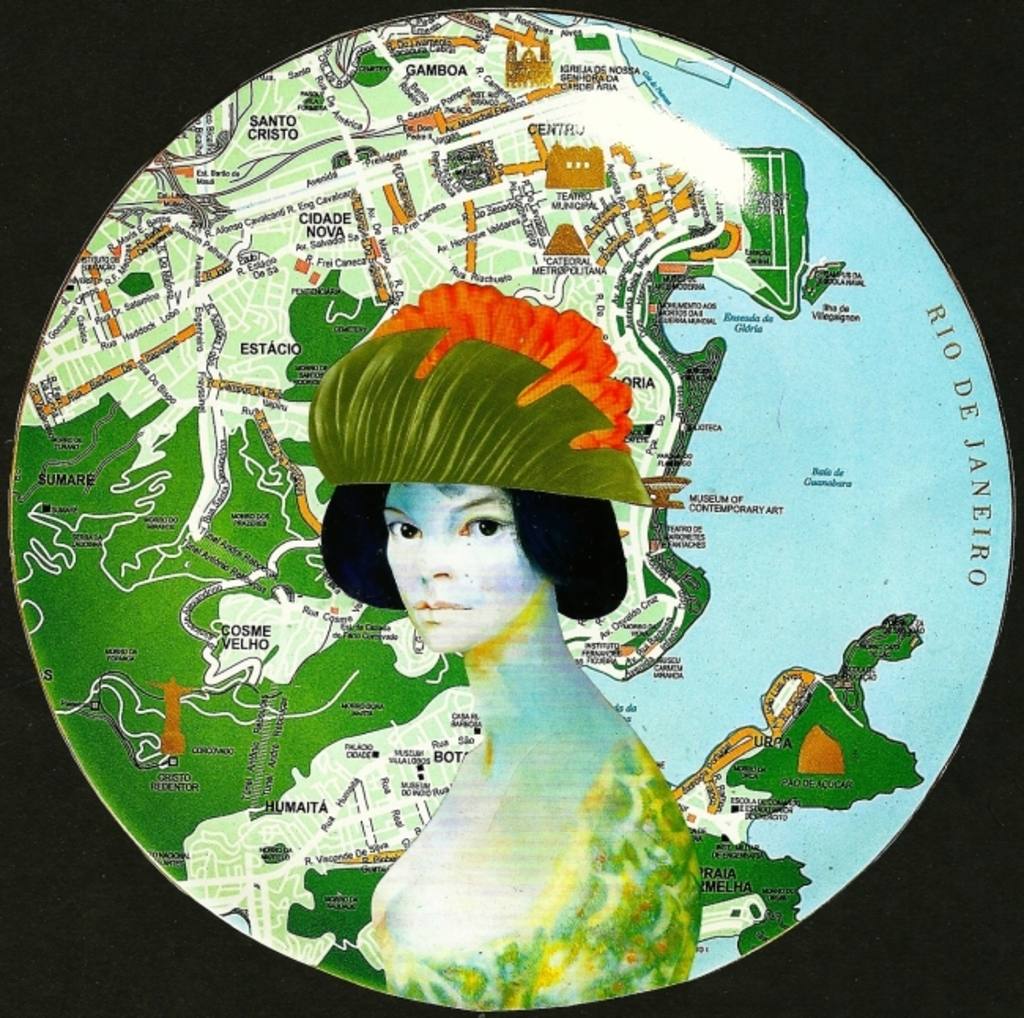face: (383, 433, 526, 659)
